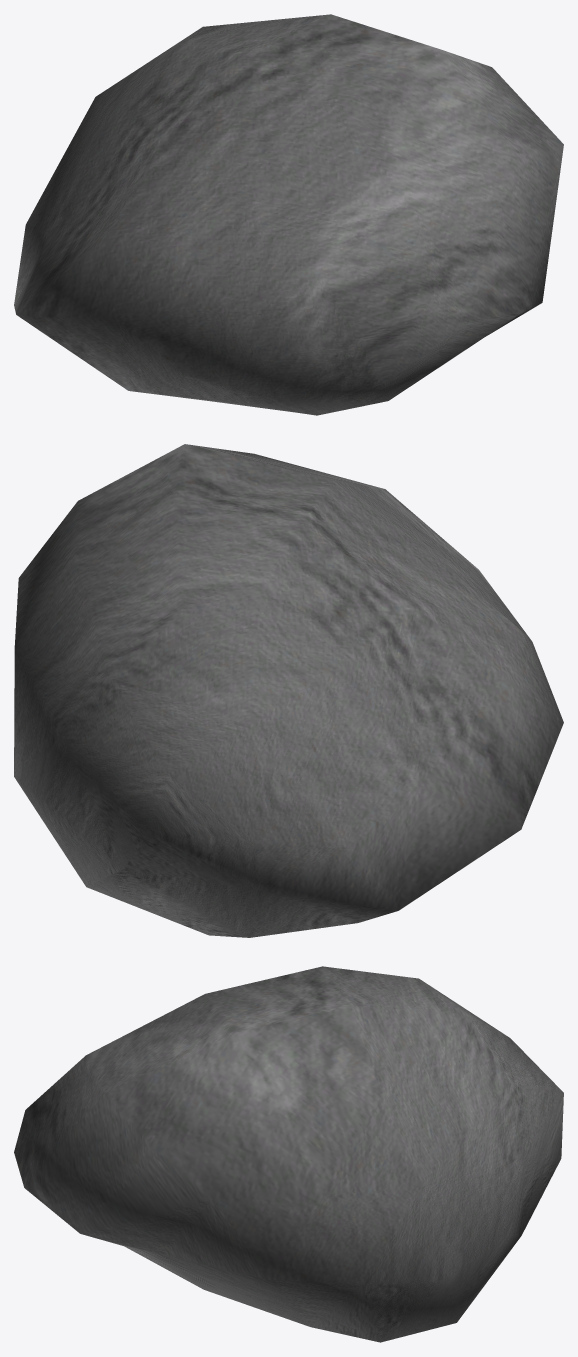
File: Stone10Shape.dae
The picture shows the model from 3 angles, top to bottom: view 1: azimuth 30°, elevation 25°; view 2: azimuth 150°, elevation 25°; view 3: azimuth 270°, elevation 25°; orthographic projection. The views are drawn at different scales.
Parts seen in each view (by area): view 1: Stone10; view 2: Stone10; view 3: Stone10.
Part boxes in pixels (left/top/right/bottom): Stone10: left=14, top=14, right=563, bottom=415; Stone10: left=14, top=444, right=563, bottom=937; Stone10: left=14, top=966, right=563, bottom=1342.
Bounding box in the file's own units: 7.69 × 5.41 × 8.06.
